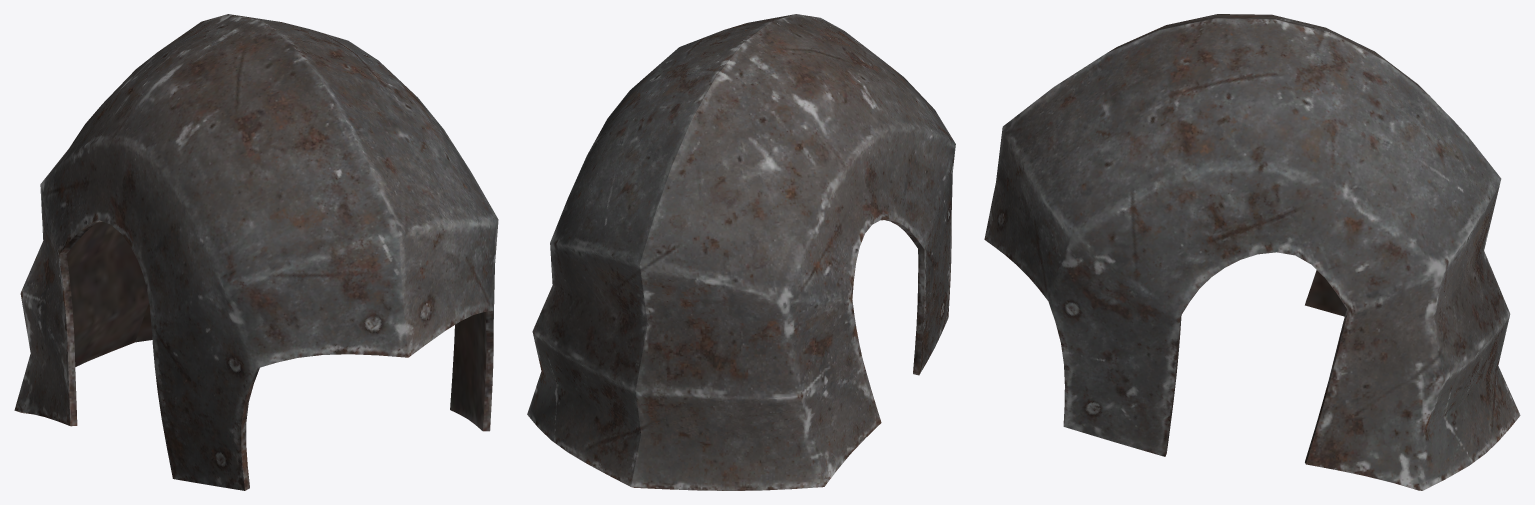
Rendered from sk_gb_uruk_helmet_light_b.fbx.
3 views of the same model, side by side, from view 1: azimuth 30°, elevation 25°; view 2: azimuth 150°, elevation 25°; view 3: azimuth 270°, elevation 25° (orthographic). The views are drawn at different scales.
Visible parts, largest first — view 1: sk_gb_uruk_helmet_light_b; view 2: sk_gb_uruk_helmet_light_b; view 3: sk_gb_uruk_helmet_light_b.
Part boxes in pixels (box(x1,y1,x2,y2)): sk_gb_uruk_helmet_light_b: box(14, 14, 498, 490); sk_gb_uruk_helmet_light_b: box(527, 14, 955, 490); sk_gb_uruk_helmet_light_b: box(984, 14, 1520, 490).
Bounding box in the file's own units: 0.2123 × 0.2956 × 0.2435.
1 material, 1 textured.
